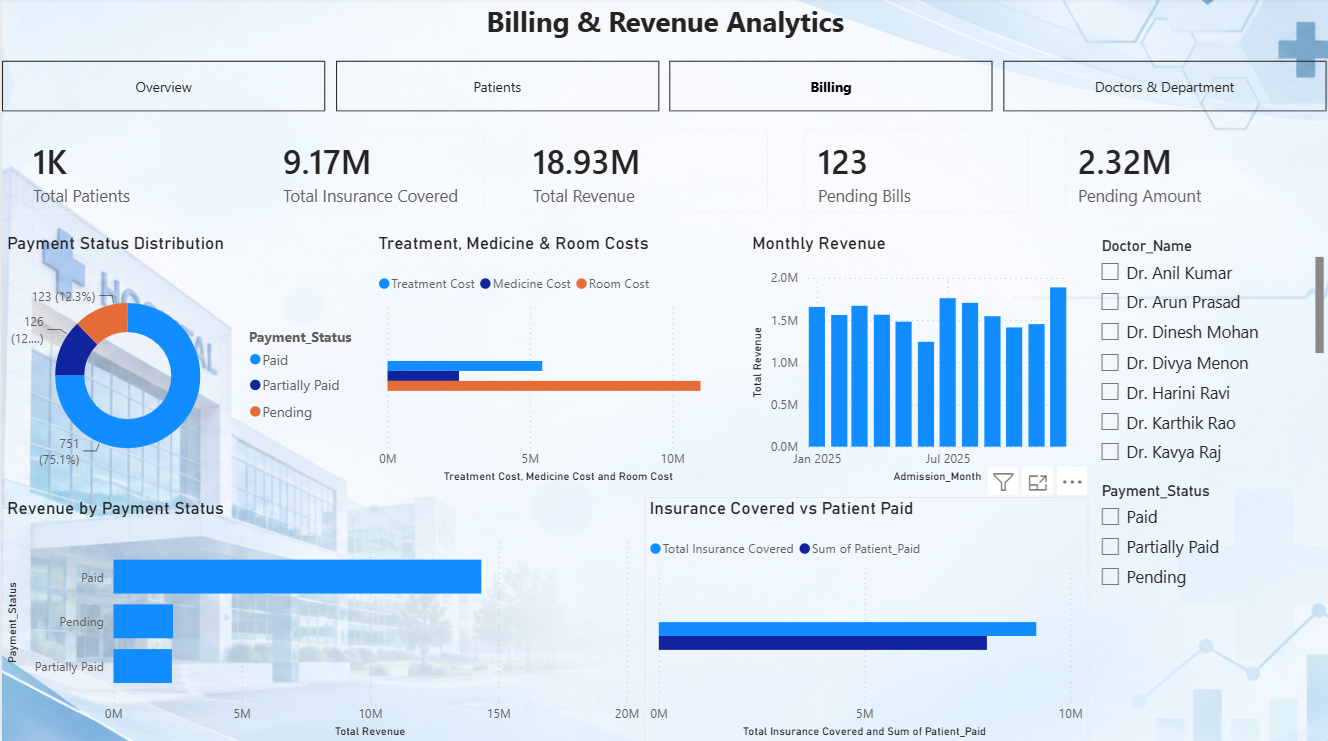

This screenshot's page, from the dashboard's own definition file:
{"tool":"powerbi","page":{"name":"Billing","canvas":[1280,720],"ordinal":2},"visuals":[{"type":"textbox","box":[0,0,1280.3,61.7],"z":0},{"type":"pageNavigator","box":[0,61.7,1280.3,49.4],"z":1000},{"type":"cardVisual","fields":{"Data":["Admissions.Total Patients"]},"box":[0,111.1,241.5,115.3],"z":2000},{"type":"cardVisual","fields":{"Data":["Admissions.Total Insurance Covered"]},"box":[241.5,111.1,241.5,115.3],"z":3000},{"type":"cardVisual","fields":{"Data":["Admissions.Total Revenue"]},"box":[483,111.1,274.4,115.3],"z":4000},{"type":"cardVisual","title":"Pending BIlls","fields":{"Data":["CountNonNull(Billing.Bill_ID)"]},"box":[757.5,111.1,251.1,115.3],"z":5000},{"type":"cardVisual","fields":{"Data":["Admissions.Pending Amount"]},"box":[1008.6,111.1,271.7,115.3],"z":6000},{"type":"donutChart","title":"Payment Status Distribution","fields":{"Category":["Billing.Payment_Status"],"Y":["CountNonNull(Billing.Bill_ID)"]},"box":[0,226.4,358.1,247],"z":7000},{"type":"clusteredBarChart","title":"Treatment, Medicine & Room Costs","fields":{"Y":["Sum(Billing.Treatment_Cost)","Sum(Billing.Medicine_Cost)","Sum(Billing.Room_Cost)"]},"box":[358.1,226.4,360.9,247],"z":8000},{"type":"columnChart","title":"Monthly Revenue","fields":{"Category":["Admissions.Admission_Month"],"Y":["Admissions.Total Revenue"]},"box":[719,226.4,329.3,247],"z":9000},{"type":"clusteredBarChart","title":"Revenue by Payment Status","fields":{"Category":["Billing.Payment_Status"],"Y":["Admissions.Total Revenue"]},"box":[0,483,620.2,237.4],"z":10000},{"type":"clusteredBarChart","title":"Insurance Covered vs Patient Paid","fields":{"Y":["Admissions.Total Insurance Covered","Sum(Billing.Patient_Paid)"]},"box":[620.2,483,428.1,237.4],"z":11000},{"type":"slicer","fields":{"Values":["Doctors.Doctor_Name"]},"box":[1048.4,226.4,231.9,237.4],"z":12000},{"type":"slicer","fields":{"Values":["Billing.Payment_Status"]},"box":[1048.4,463.8,231.9,118],"z":13000}]}

Visuals, with their boxes in screenshot pixels (x1, y1, x2, y2), scaled from the page's 1280x720 canvas onto the 1328x741 screenshot:
textbox: [0, 0, 1327, 63]
pageNavigator: [0, 63, 1327, 114]
cardVisual - Admissions.Total Patients: [0, 114, 251, 233]
cardVisual - Admissions.Total Insurance Covered: [251, 114, 501, 233]
cardVisual - Admissions.Total Revenue: [501, 114, 786, 233]
"Pending BIlls" cardVisual: [786, 114, 1046, 233]
cardVisual - Admissions.Pending Amount: [1046, 114, 1327, 233]
"Payment Status Distribution" donutChart: [0, 233, 372, 487]
"Treatment, Medicine & Room Costs" clusteredBarChart: [372, 233, 746, 487]
"Monthly Revenue" columnChart: [746, 233, 1088, 487]
"Revenue by Payment Status" clusteredBarChart: [0, 497, 643, 740]
"Insurance Covered vs Patient Paid" clusteredBarChart: [643, 497, 1088, 740]
slicer - Doctors.Doctor_Name: [1088, 233, 1327, 477]
slicer - Billing.Payment_Status: [1088, 477, 1327, 599]
